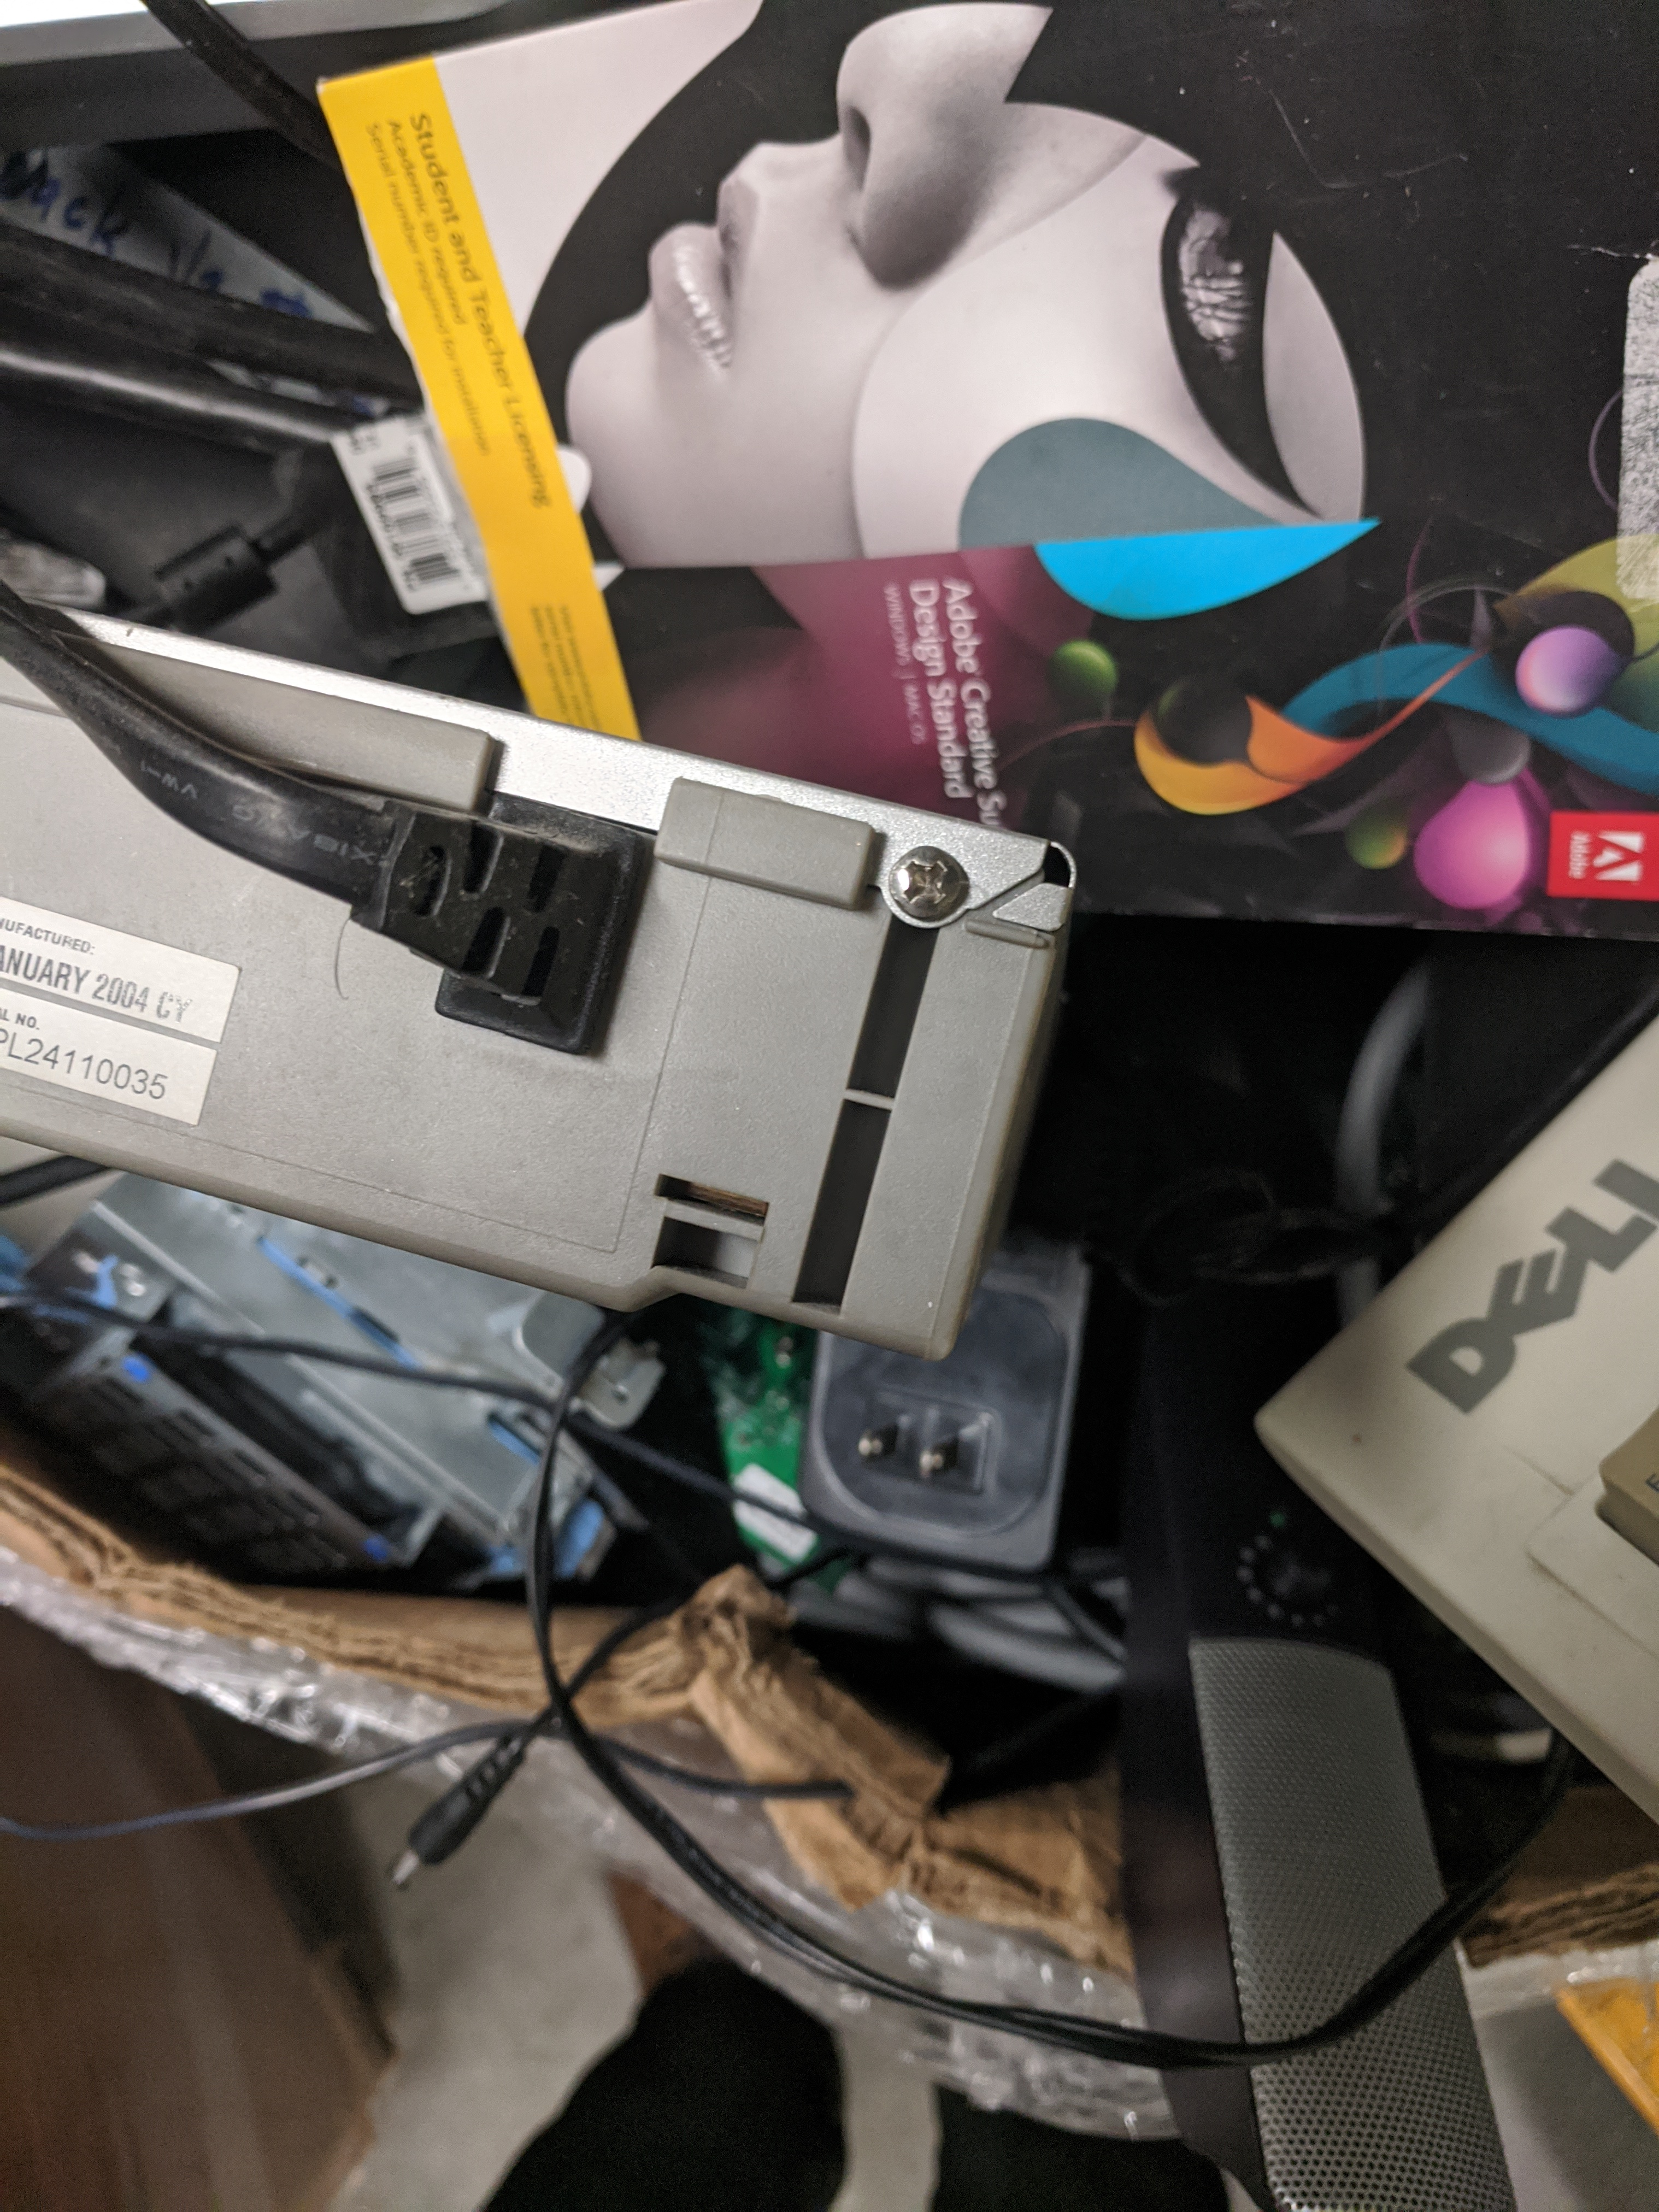cross_recessed_screw: (884, 831, 967, 914)
